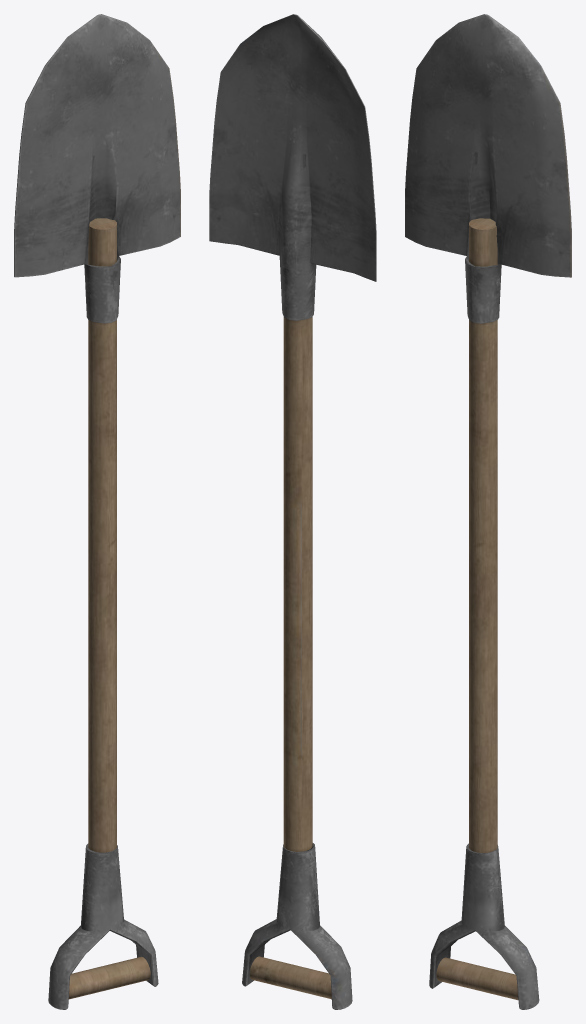
File: mp_spade.glb
The picture shows the model from 3 angles, left to right: view 1: azimuth 30°, elevation 25°; view 2: azimuth 150°, elevation 25°; view 3: azimuth 330°, elevation 25°; orthographic projection.
Parts seen in each view (by area): view 1: Cylinder_1; view 2: Cylinder_1; view 3: Cylinder_1.
Part boxes in pixels (left/top/right/bottom): Cylinder_1: left=14, top=14, right=180, bottom=1009; Cylinder_1: left=209, top=14, right=376, bottom=1009; Cylinder_1: left=405, top=14, right=571, bottom=1009.
Size of the model in its own units: 0.1816 by 1.02 by 0.0346.
1 material, 1 textured.
